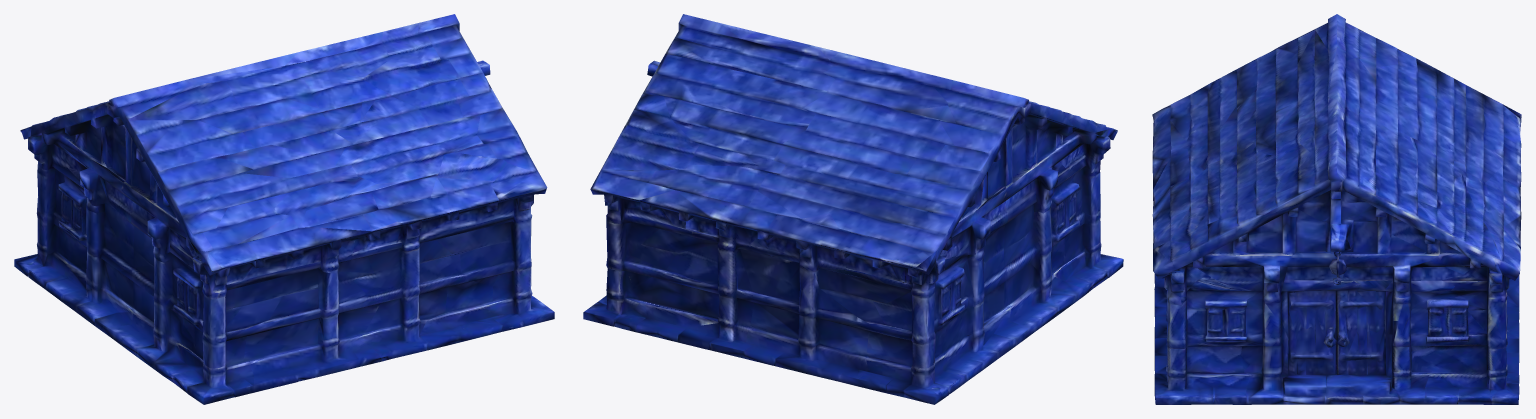
Rendered from storage_blue.glb.
The picture shows the model from 3 angles, left to right: view 1: azimuth 30°, elevation 25°; view 2: azimuth 150°, elevation 25°; view 3: azimuth 270°, elevation 25°; orthographic projection. The views are drawn at different scales.
Parts seen in each view (by area): view 1: tripo_node_4f41f150-7216-410a-ad03-8cf7d8074966; view 2: tripo_node_4f41f150-7216-410a-ad03-8cf7d8074966; view 3: tripo_node_4f41f150-7216-410a-ad03-8cf7d8074966.
Boxes of the visible parts, x1,y1,x2,y2 form: tripo_node_4f41f150-7216-410a-ad03-8cf7d8074966: (14, 14, 554, 404); tripo_node_4f41f150-7216-410a-ad03-8cf7d8074966: (583, 14, 1123, 404); tripo_node_4f41f150-7216-410a-ad03-8cf7d8074966: (1152, 14, 1521, 404).
Bounding box in the file's own units: 0.9747 × 0.5841 × 0.8543.
Materials: 1 (1 with a texture image).
